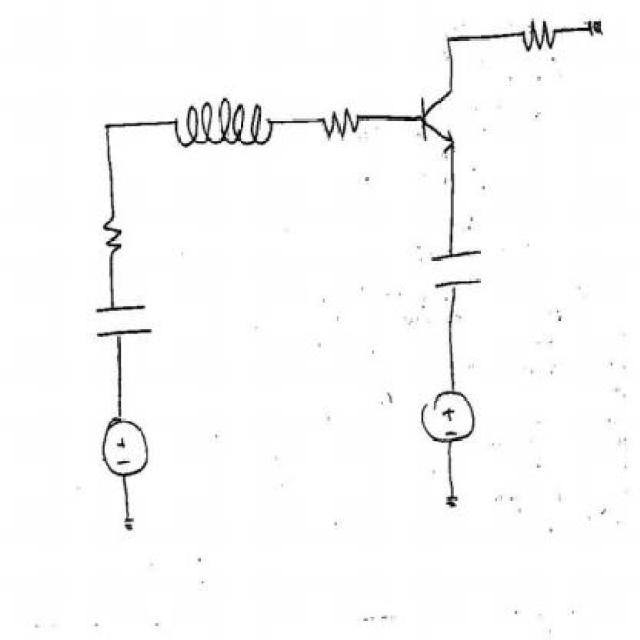capacitor: (89, 293, 160, 351), (422, 240, 492, 296)
ground: (581, 7, 617, 55), (432, 486, 474, 522), (117, 504, 147, 546)
inductor: (156, 84, 282, 161)
resistor: (313, 93, 371, 156), (89, 196, 135, 275), (508, 16, 560, 70)
transistor: (403, 78, 469, 158)
voltage_source: (89, 405, 160, 494), (414, 379, 485, 464)
